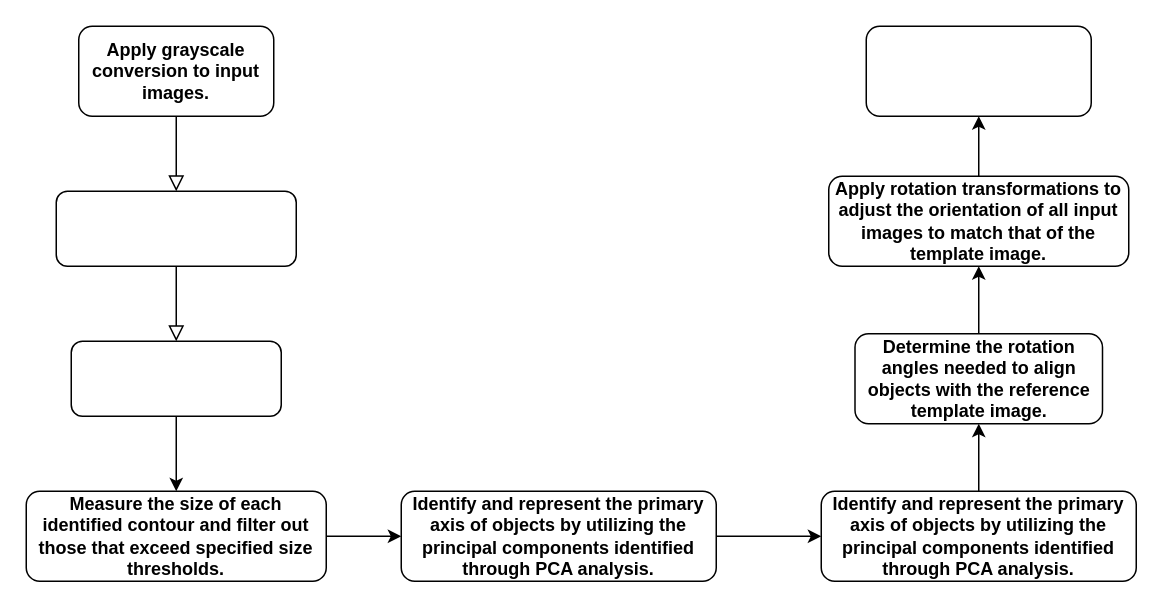
The diagram is 1163 pixels wide and 608 high, and some of its shapes have lost their labels. Each missing label, with the centre of its shape:
Detect and identify contours within the binary images.: point 175,378
Save the aligned images into a designated folder for further use or analysis.: point 978,70
Transform grayscale images into binary format using a threshold.: point 175,228
